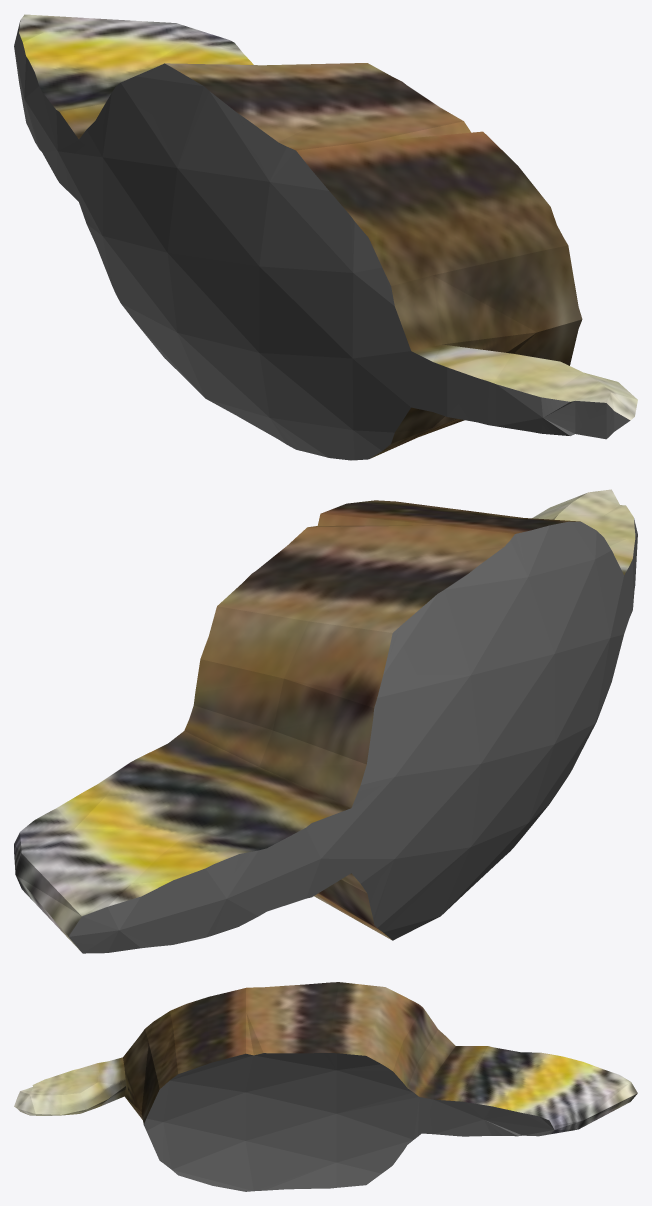
3 views of the same model, one above another, from view 1: azimuth 30°, elevation 25°; view 2: azimuth 150°, elevation 25°; view 3: azimuth 270°, elevation 25° (orthographic). The views are drawn at different scales.
Parts seen in each view (by area): view 1: link_10_visual; view 2: link_10_visual; view 3: link_10_visual.
Boxes of the visible parts, box(x1,y1,x2,y2) form: link_10_visual: box(14, 14, 637, 460); link_10_visual: box(14, 489, 637, 953); link_10_visual: box(14, 982, 637, 1191).
Bounding box in the file's own units: 0.001 × 0.00118 × 0.00382.
2 materials, 2 textured.
